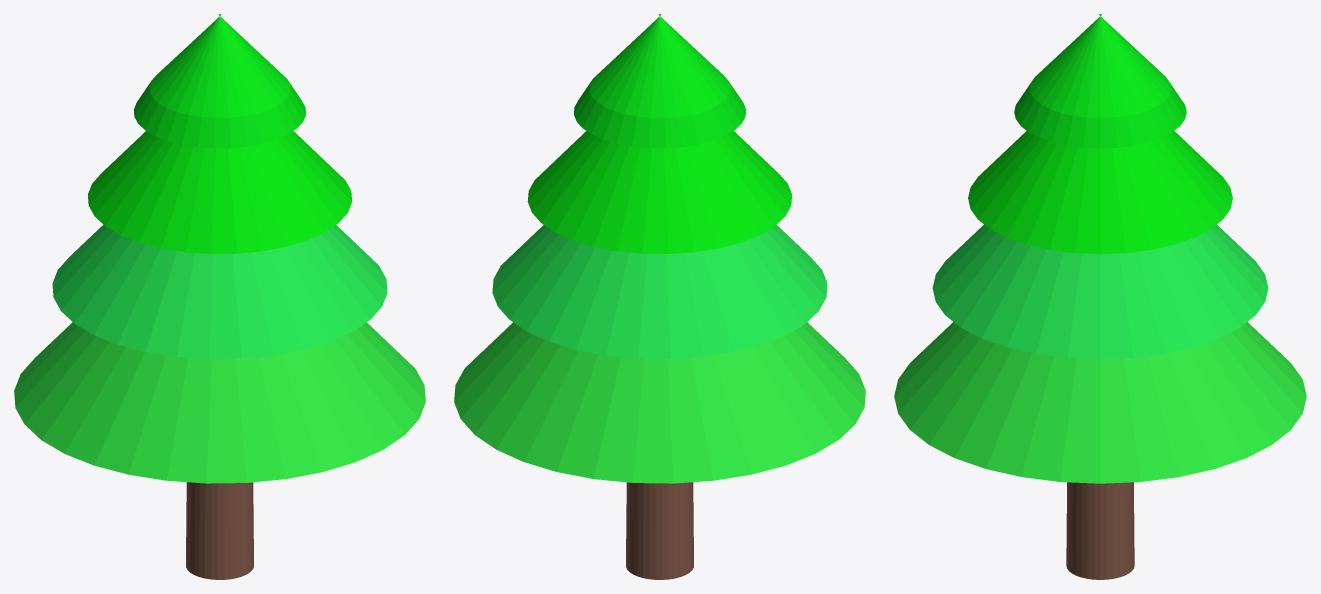
The picture shows the model from 3 angles, left to right: view 1: azimuth 30°, elevation 25°; view 2: azimuth 150°, elevation 25°; view 3: azimuth 270°, elevation 25°; orthographic projection.
Visible parts, largest first — view 1: 실린더.001, 실린더.003, 실린더.002, 실린더.004, 실린더; view 2: 실린더.001, 실린더.003, 실린더.002, 실린더.004, 실린더; view 3: 실린더.001, 실린더.003, 실린더.002, 실린더.004, 실린더.
Part boxes in pixels (x1,y1,x2,y2): 실린더.001: [14, 322, 425, 483]; 실린더.003: [52, 225, 387, 358]; 실린더.002: [88, 131, 352, 253]; 실린더.004: [134, 14, 305, 148]; 실린더: [186, 482, 253, 579]; 실린더.001: [454, 322, 865, 483]; 실린더.003: [492, 225, 827, 358]; 실린더.002: [527, 131, 791, 253]; 실린더.004: [574, 14, 745, 148]; 실린더: [626, 482, 693, 579]; 실린더.001: [894, 322, 1306, 483]; 실린더.003: [932, 224, 1268, 359]; 실린더.002: [968, 131, 1232, 254]; 실린더.004: [1014, 14, 1186, 148]; 실린더: [1066, 482, 1134, 579].
Bounding box in the file's own units: 134 × 197 × 134.
